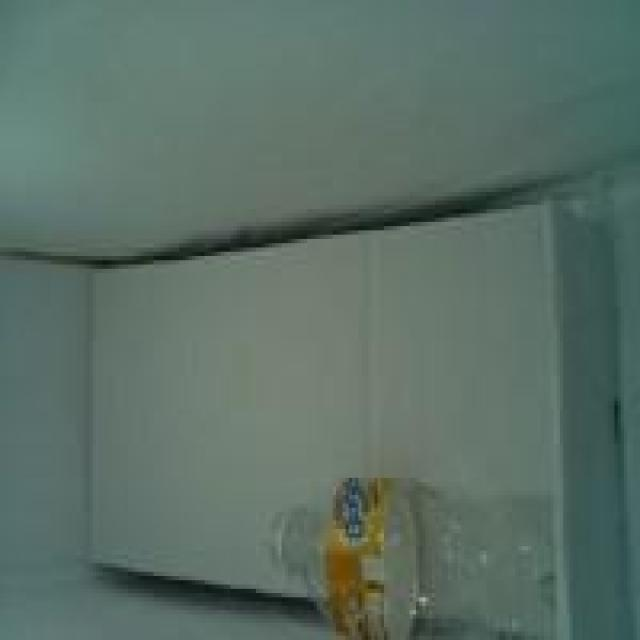bottle: (264, 480, 544, 638)
